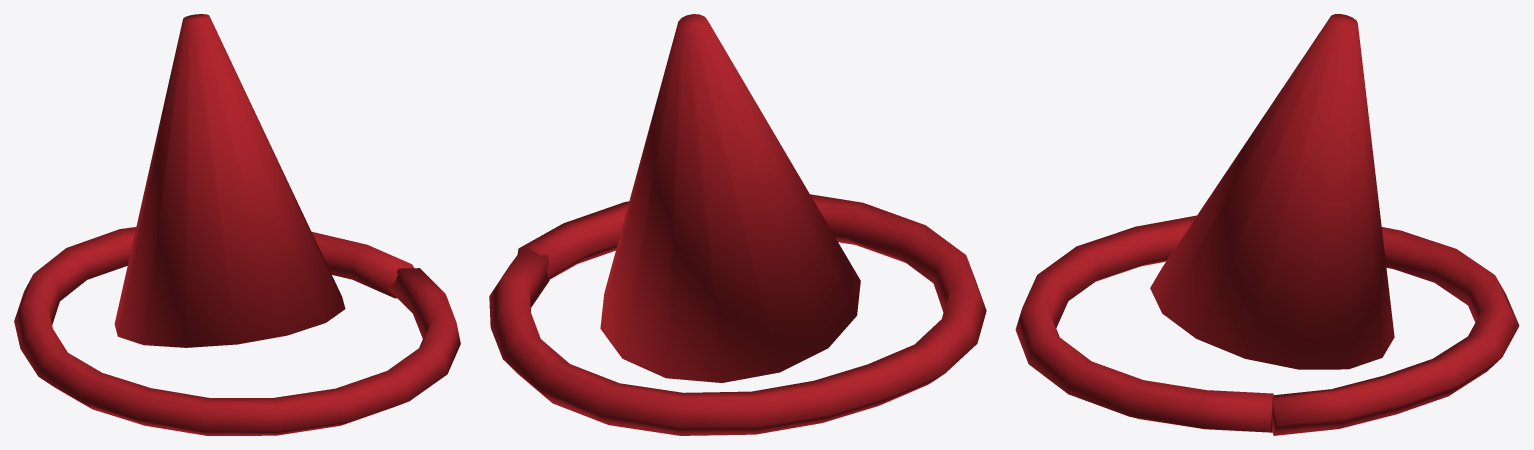
Rendered from santa_costume_head.glb.
3 renders of one model, left to right at view 1: azimuth 30°, elevation 25°; view 2: azimuth 150°, elevation 25°; view 3: azimuth 270°, elevation 25°, orthographic. The views are drawn at different scales.
Parts seen in each view (by area): view 1: santa_costume_head; view 2: santa_costume_head; view 3: santa_costume_head.
Boxes of the visible parts, x1,y1,x2,y2 form: santa_costume_head: [14, 14, 460, 435]; santa_costume_head: [489, 14, 986, 435]; santa_costume_head: [1015, 14, 1519, 435].
Bounding box in the file's own units: 0.3962 × 0.3005 × 0.4225.
